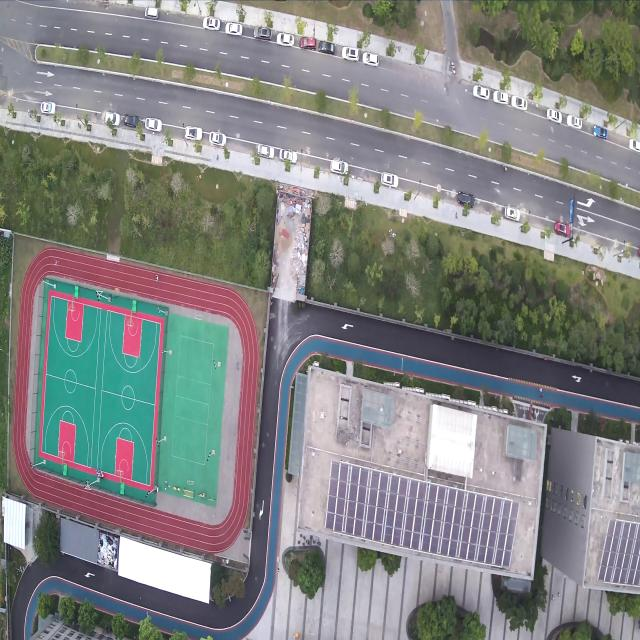UAV: (53, 258, 59, 267)
